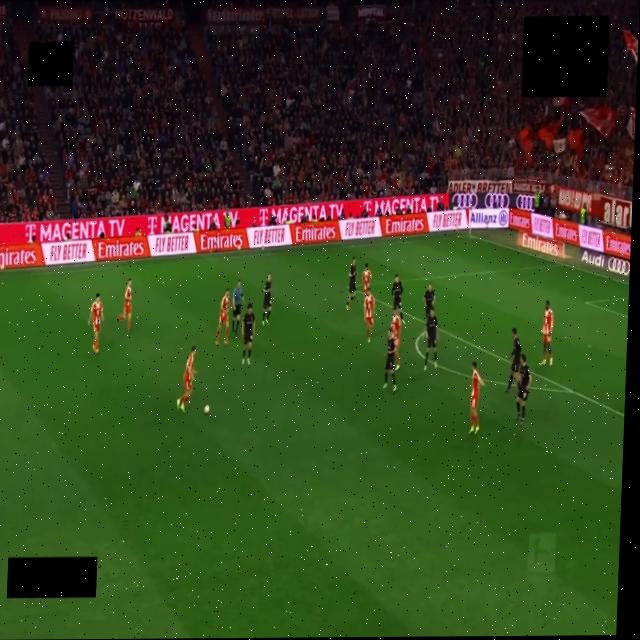ball: (204, 406, 209, 414)
player: (177, 346, 196, 412), (469, 362, 485, 434), (516, 354, 532, 424), (505, 328, 521, 392), (88, 294, 103, 353), (424, 309, 438, 371), (540, 301, 553, 365), (242, 303, 255, 364), (215, 288, 229, 344), (384, 328, 396, 391), (117, 279, 131, 332), (392, 274, 404, 324), (364, 293, 375, 342), (392, 312, 401, 371), (346, 257, 356, 309), (262, 274, 271, 325), (424, 284, 435, 317), (362, 263, 372, 296)
referee: (232, 280, 243, 333)
